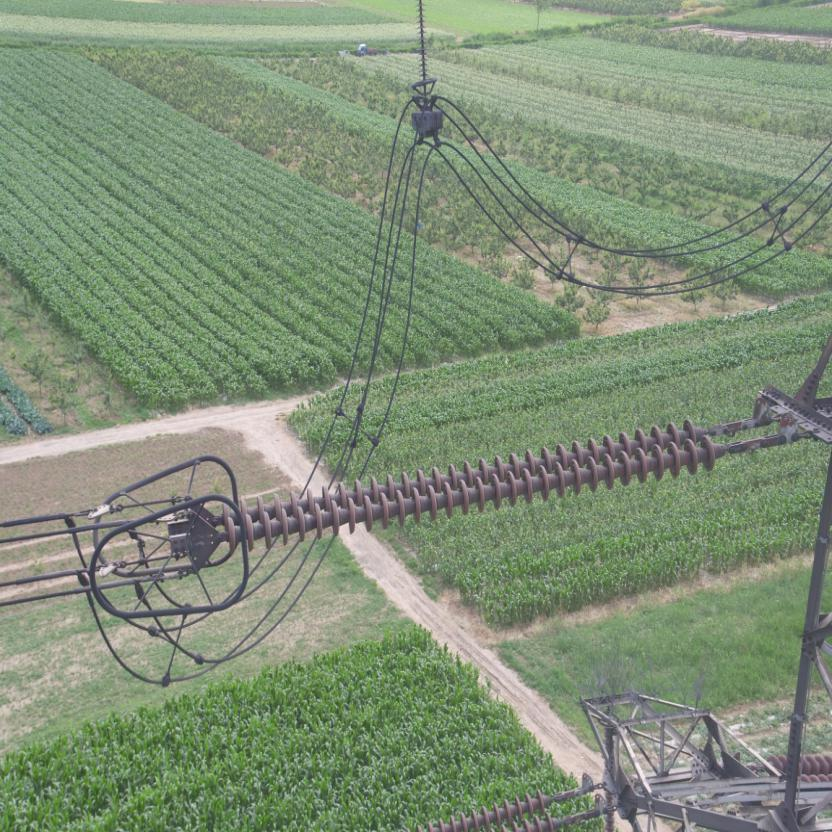insulator: (206, 413, 746, 557), (417, 786, 573, 832)
